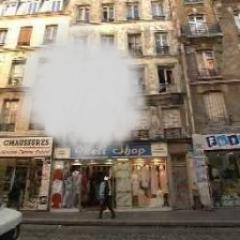smoke: (13, 15, 156, 168)
